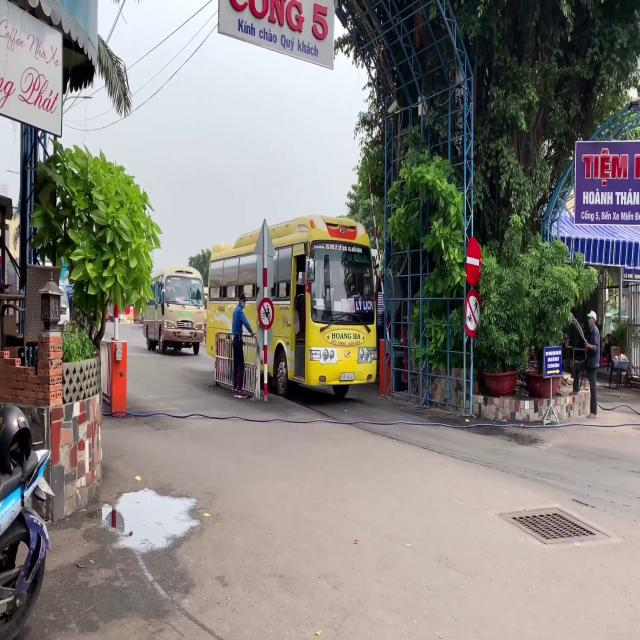bien_trang: (340, 371, 355, 382)
